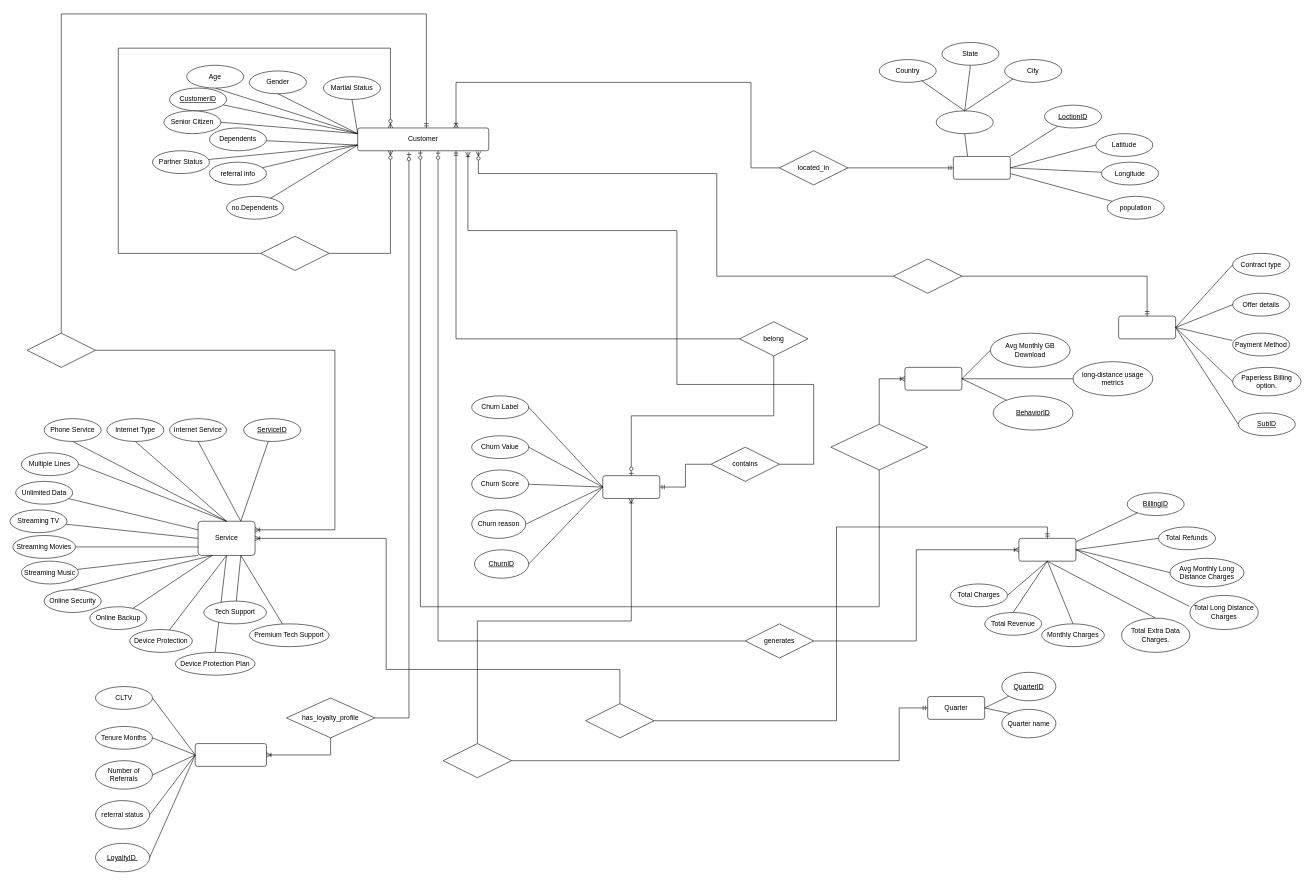
This 1311x882 diagram has some shape labels left out. Each missing label, with the centre of its shape:
address: (x=964, y=122)
Behavior: (x=933, y=378)
Billing: (x=1047, y=549)
buy: (x=61, y=350)
ChurnReport: (x=631, y=486)
cost: (x=619, y=720)
Customer Loyalty: (x=230, y=754)
has_behavior_metrics: (x=879, y=447)
location: (x=981, y=167)
refer: (x=294, y=253)
subscribes_to: (x=927, y=275)
subscription: (x=1147, y=327)
TimeAtYear: (x=477, y=760)
